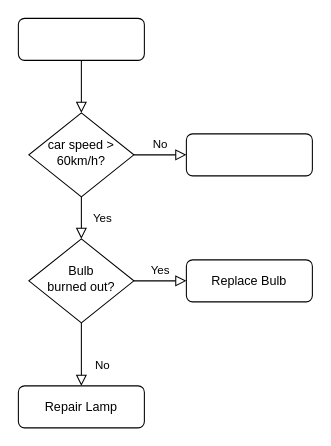
This 331x446 diagram has some shape labels left out. Each missing label, with the centre of its shape:
Plug in lamp: (248,154)
scan car speed: (80,38)
